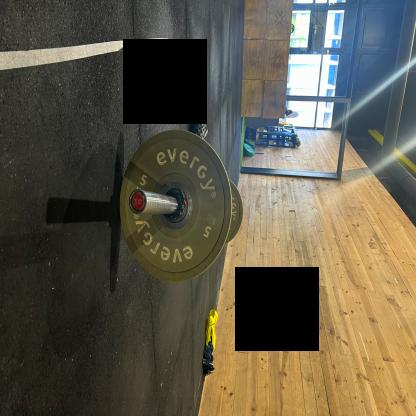barbell: (98, 246, 214, 398)
